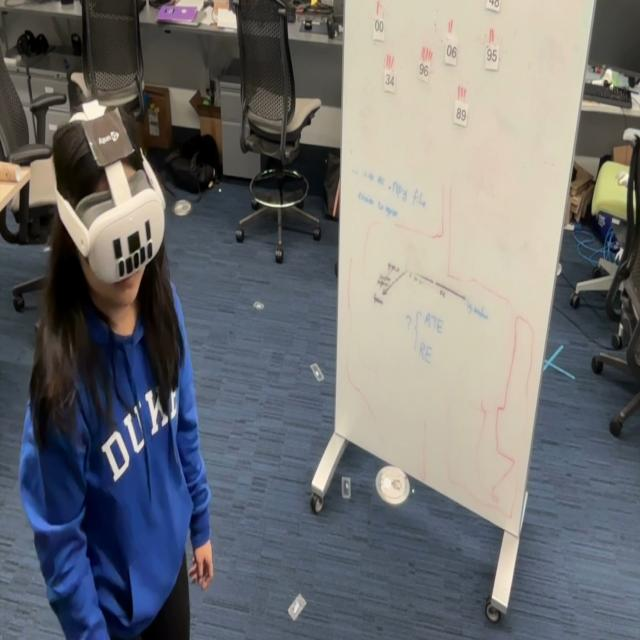UnityLogo: (81, 104, 136, 170)
